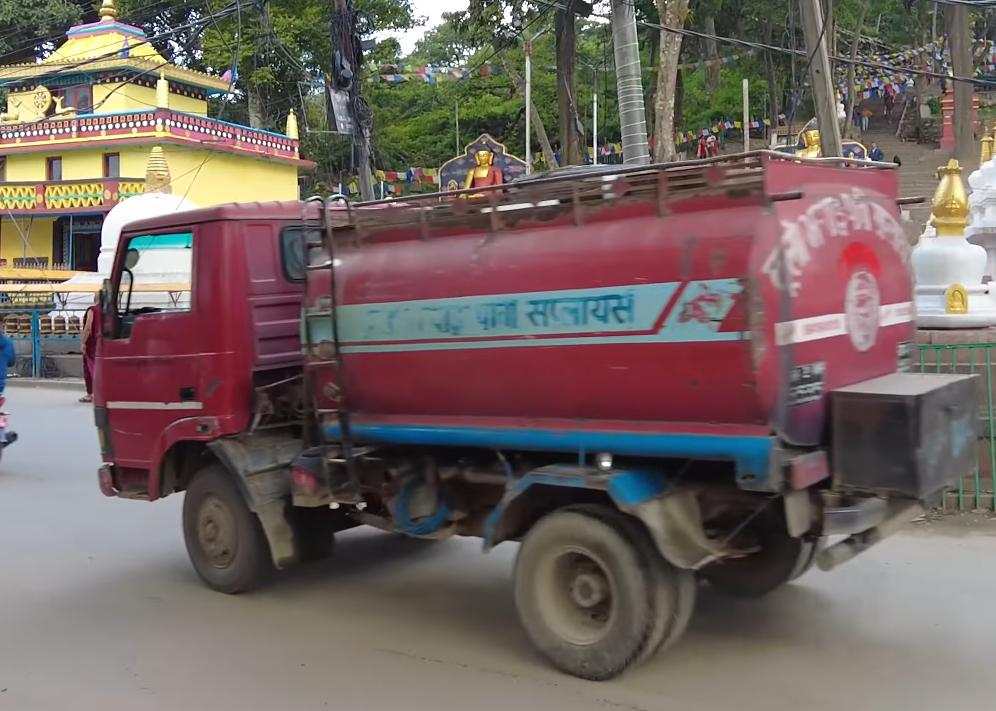mini_truck: (75, 131, 968, 675)
